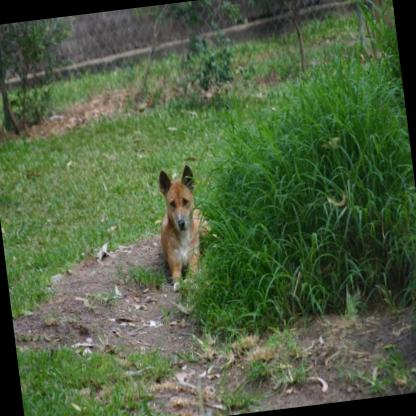dingo: (152, 160, 224, 292)
